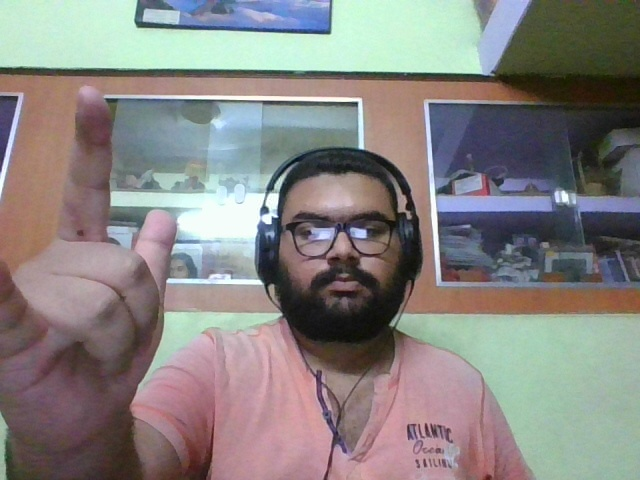hello: (1, 85, 179, 447)
